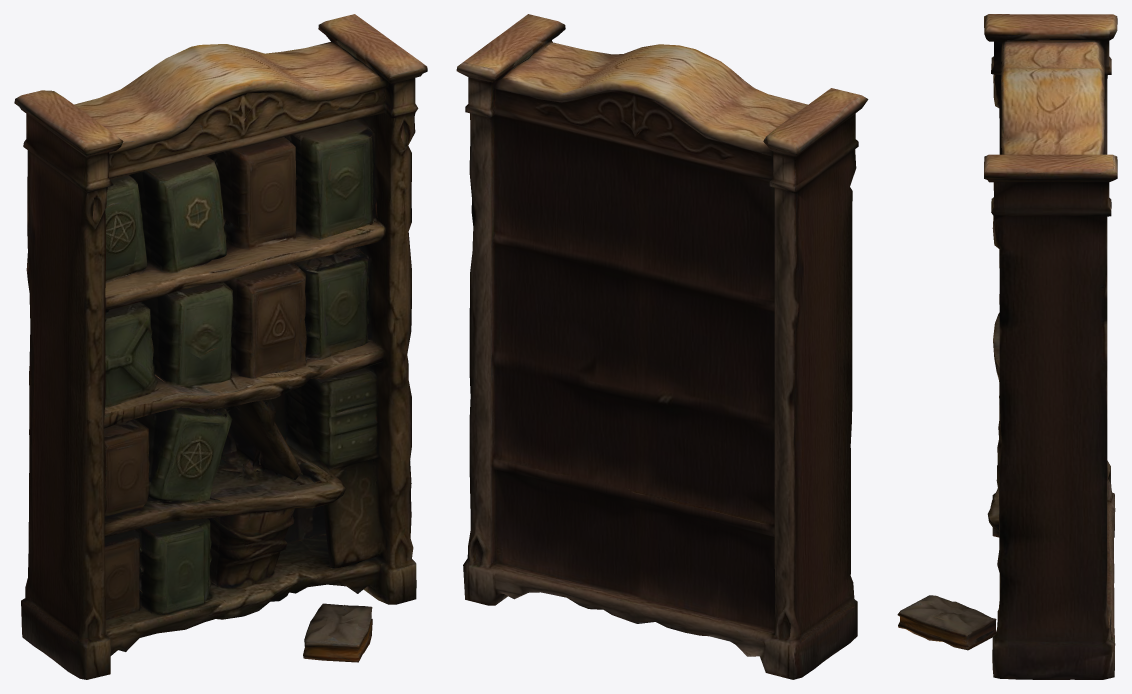
The model's file is shelf.glb.
3 renders of one model, left to right at view 1: azimuth 30°, elevation 25°; view 2: azimuth 150°, elevation 25°; view 3: azimuth 270°, elevation 25°, orthographic. The views are drawn at different scales.
Bounding box in the file's own units: 1.25 × 1.92 × 0.7318.
1 material, 1 textured.
